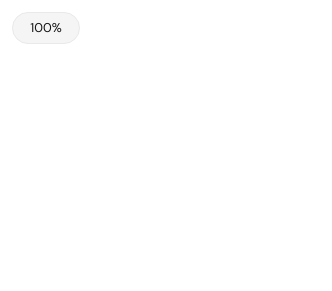
Test case: ZoomDropdown › is closed by default and opens on field click
Click the button with test id "zoom-field" at point(46, 28), box [12,12,80,44]
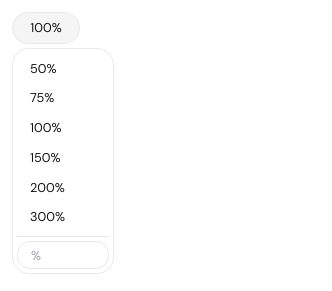
Result: the field with test id "zoom-input" is shown at [17,241,109,269]
